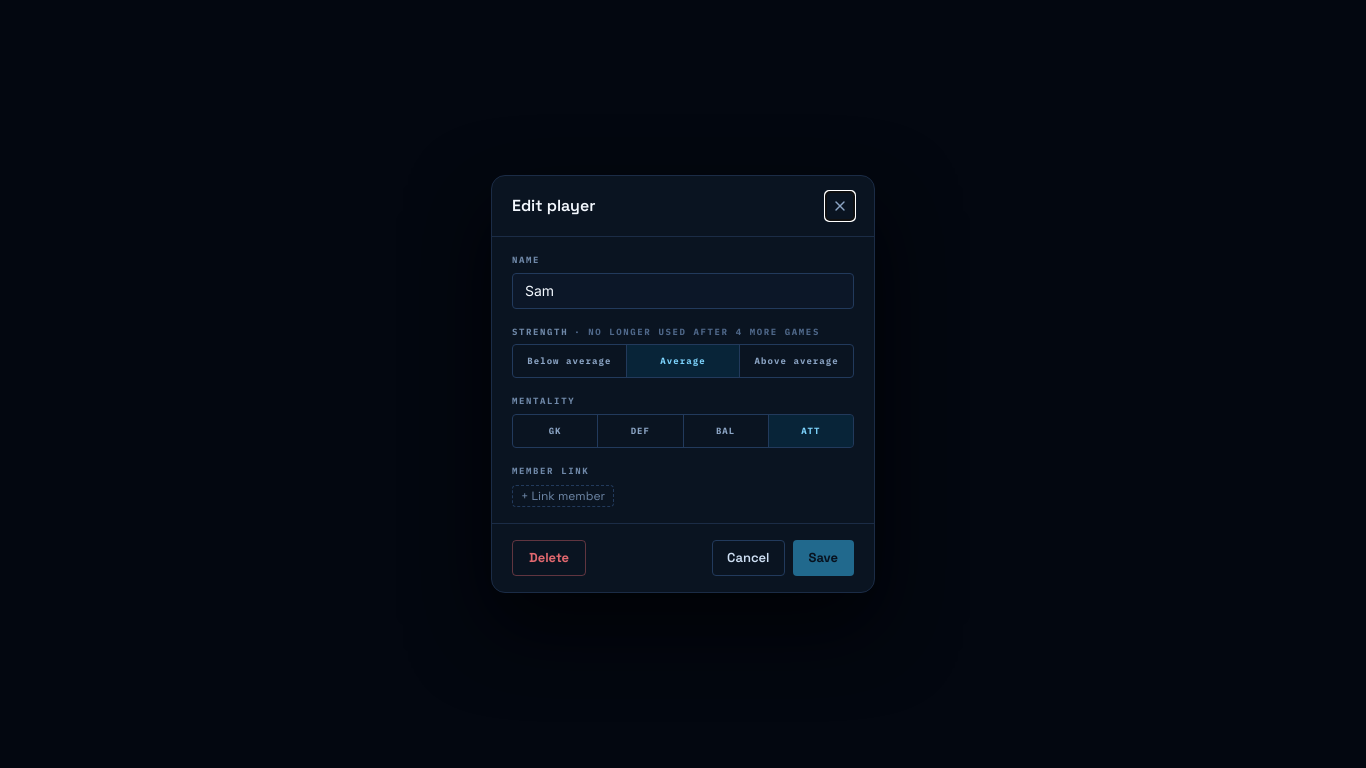
EditPlayerModal › keeps the modal open on a failed save and reports what did save
Click the button "DEF" at {"x": 641, "y": 430}, box left=598, top=414, right=684, bottom=446
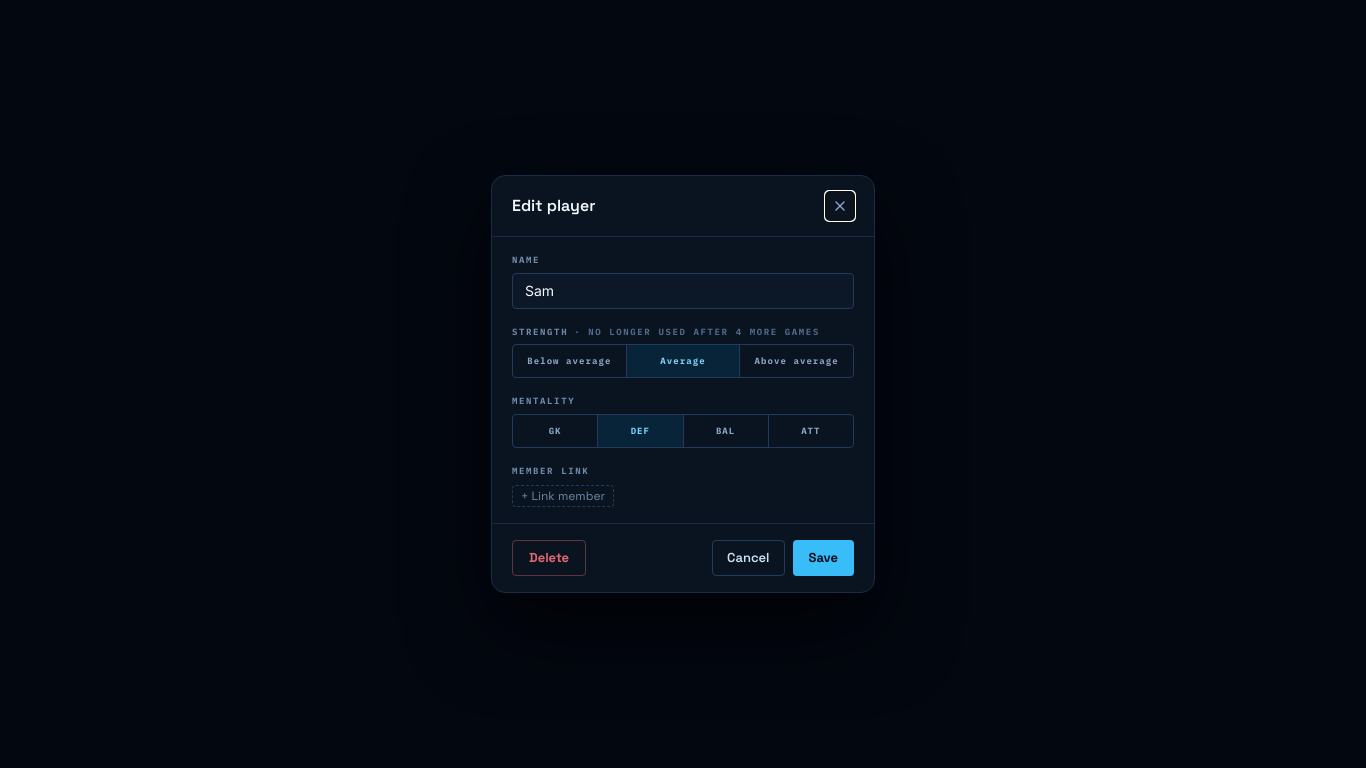
Replace the text in the field labelled "Name" with "Sammy" at {"x": 683, "y": 290}, box left=512, top=272, right=854, bottom=308
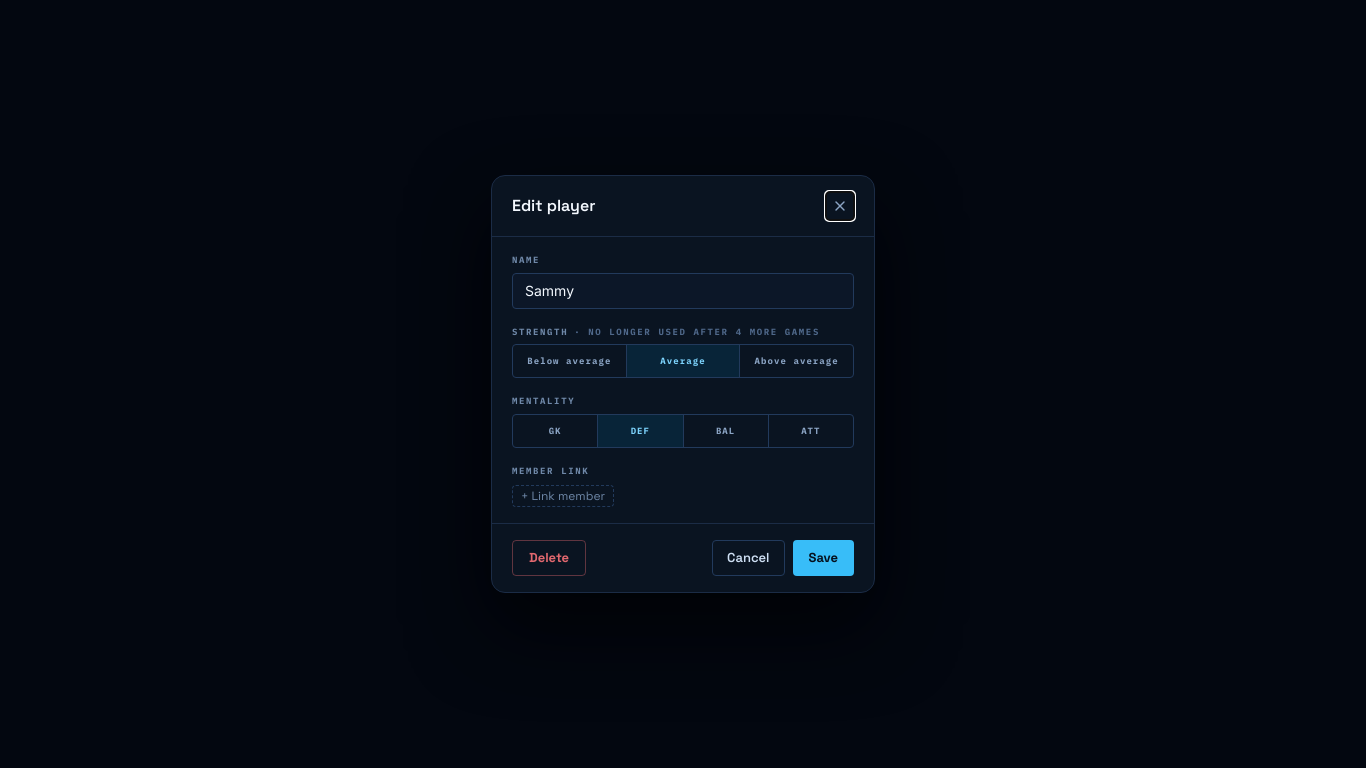
Click the button "Save" at {"x": 823, "y": 558}, box left=792, top=540, right=854, bottom=576
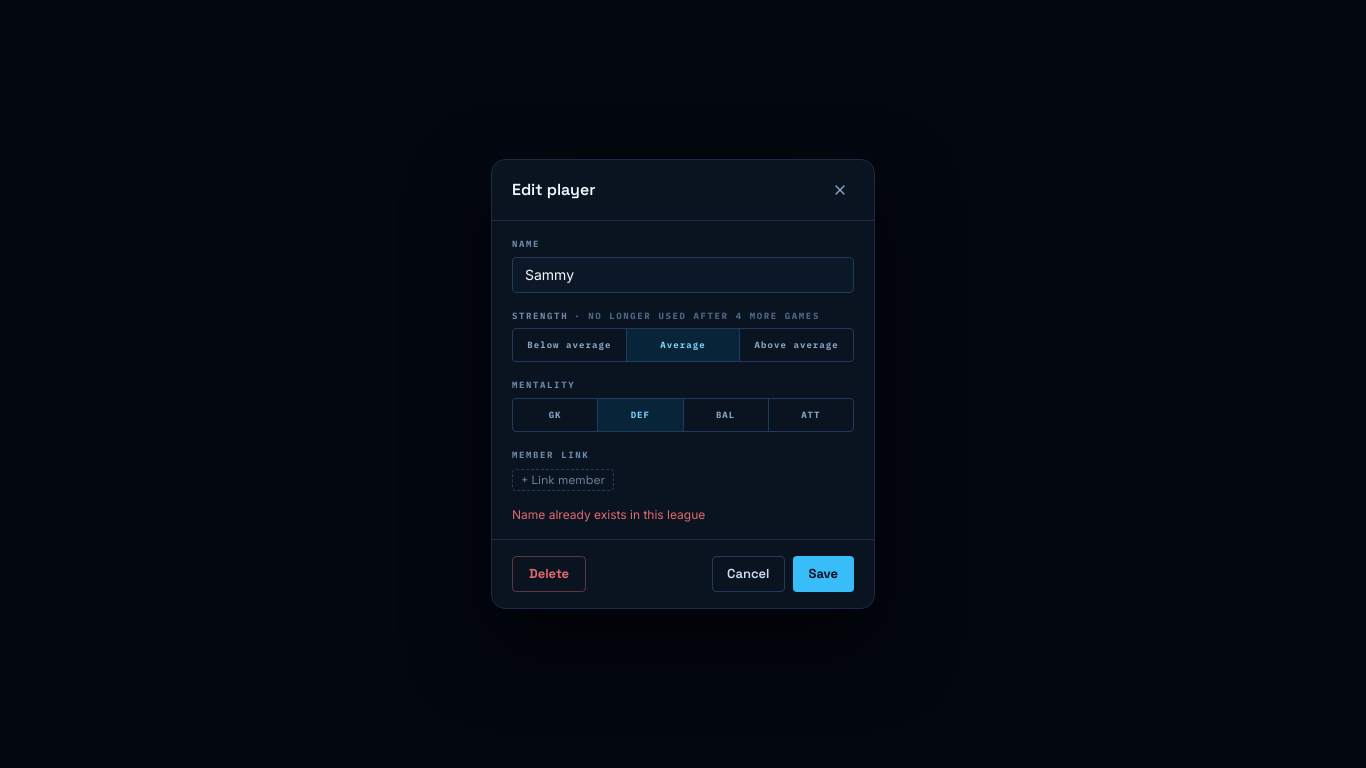
Expected: the text "Name already exists in this league" is shown, left=512, top=507, right=705, bottom=522
